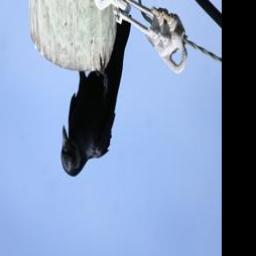Crow: (59, 13, 131, 178)
